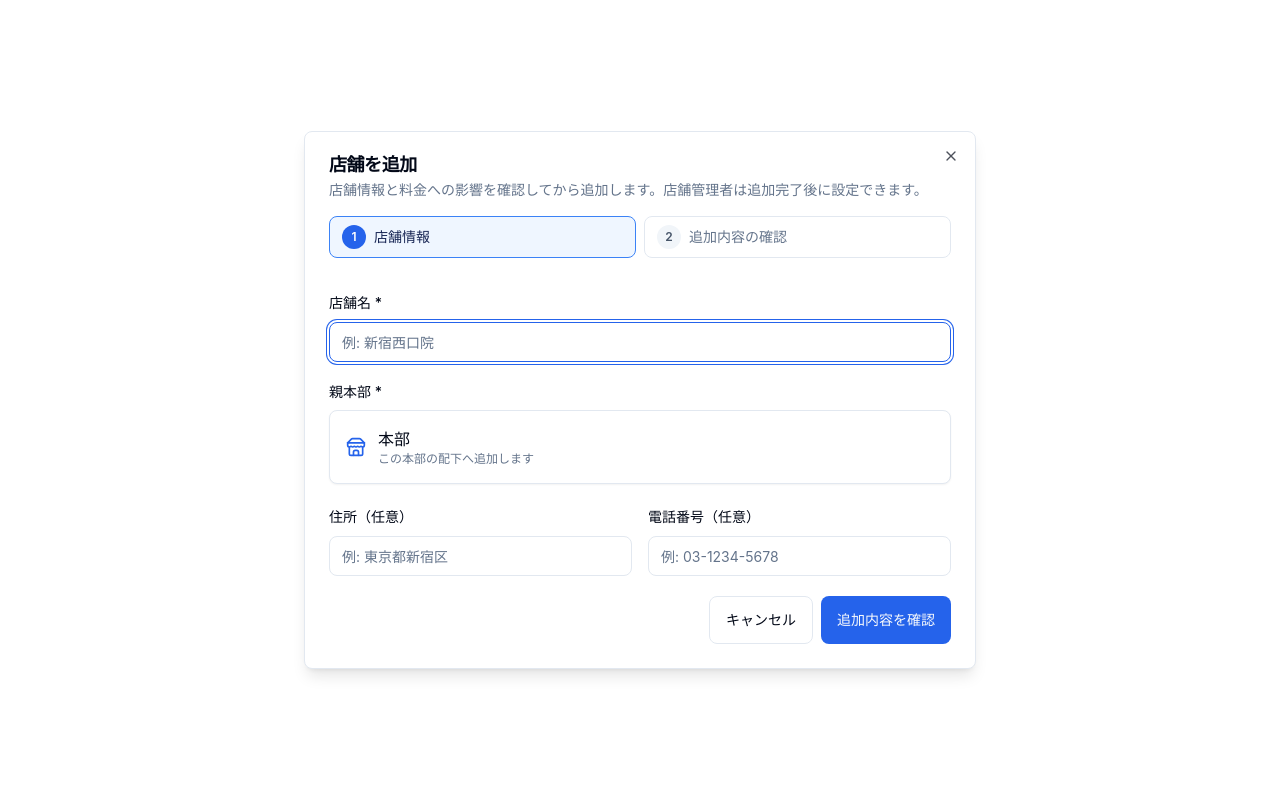
Scenario: TenantAddDialog › 条件確認APIの失敗時も入力を保持する
Type "新宿西口院" into the field labelled "店舗名 *".
click(640, 342); type("新宿西口院")  # box [329,322,951,362]
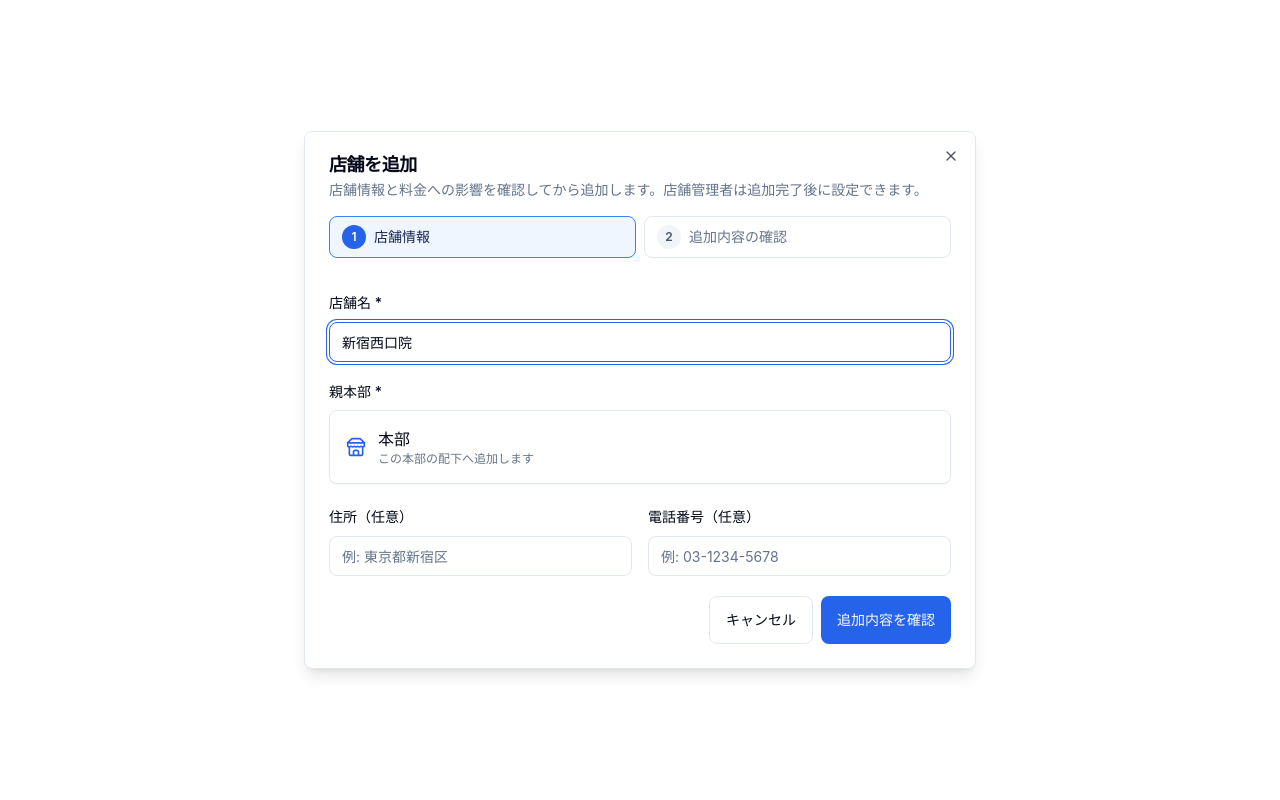
Click the button "追加内容を確認".
click(886, 620)  # box [821,596,951,644]
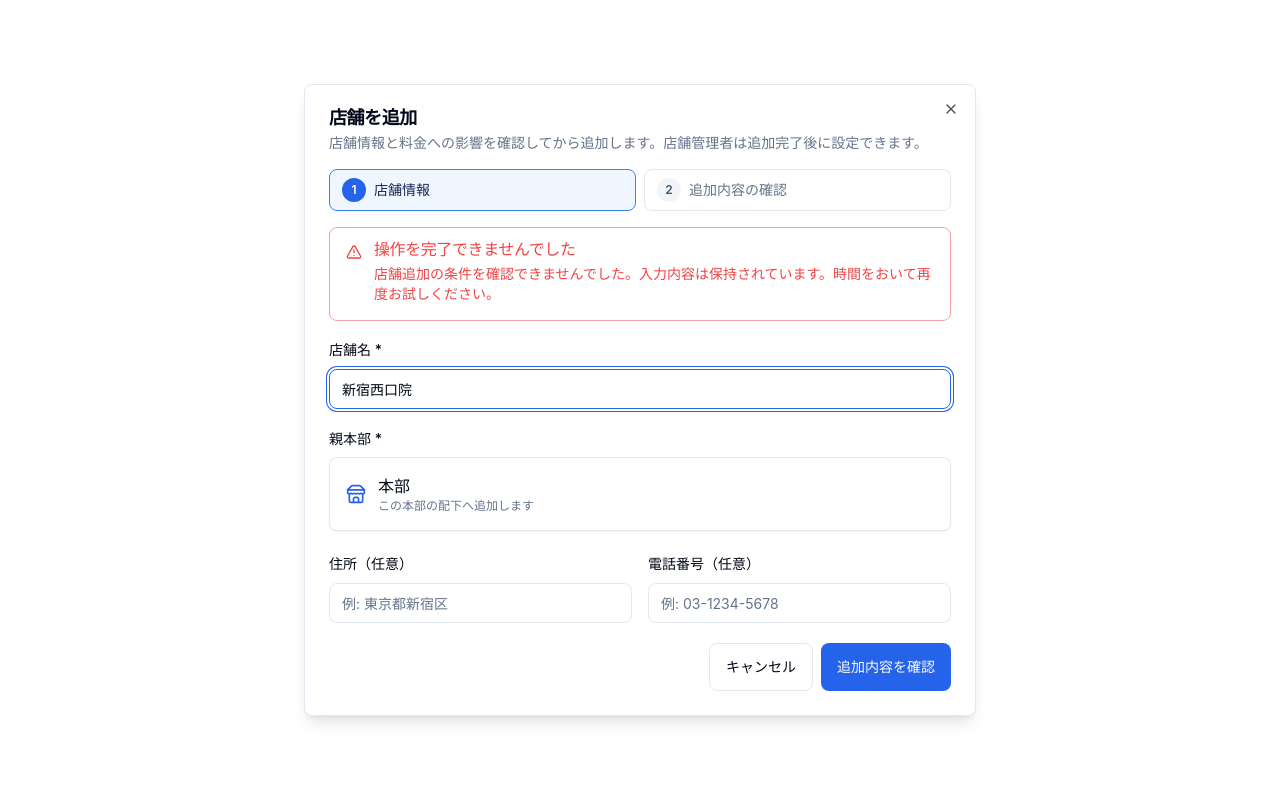
Expected: the text "店舗追加の条件を確認できませんでした。入力内容は保持されています。時間をおいて再度お試しください。" is shown, [346,264,934,304]
